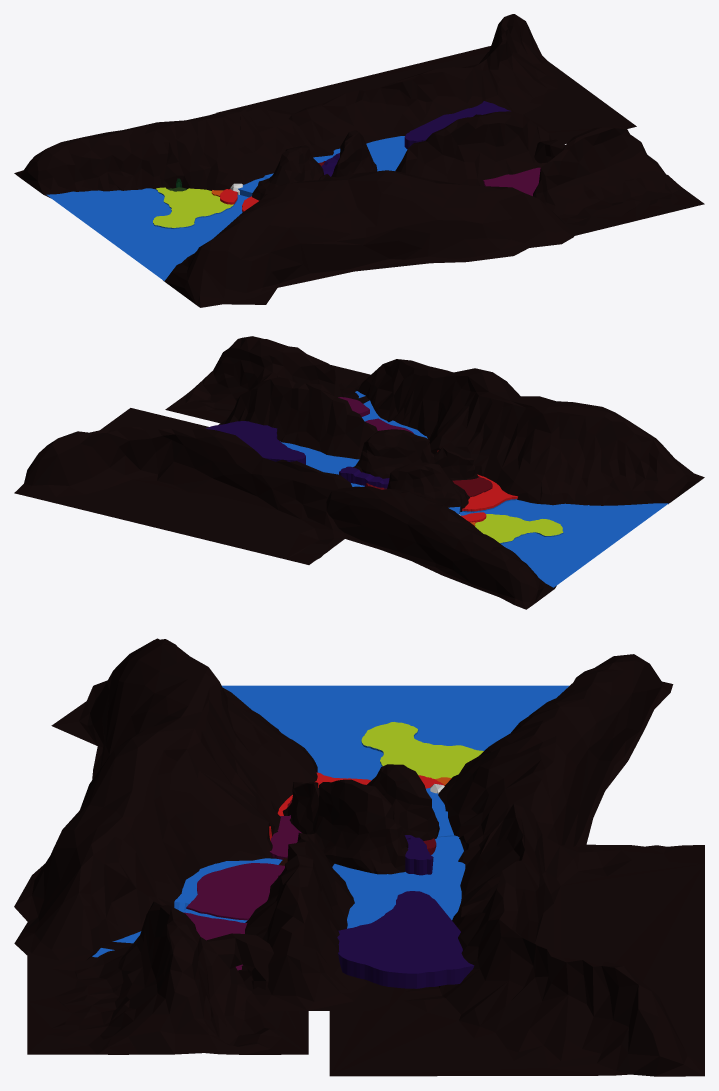
File: test_terrain_07.obj
The picture shows the model from 3 angles, top to bottom: view 1: azimuth 30°, elevation 25°; view 2: azimuth 150°, elevation 25°; view 3: azimuth 270°, elevation 25°; orthographic projection. The views are drawn at different scales.
Visible parts, largest first — view 1: Fjord3_Grid.017, Fjord1B_Grid.033, Fjord1_Grid.010, Grid_Grid.035, Lake_Grid.014, Fjord6_Grid.034, Island_01_A_Grid.004, Fjord2_Grid.011, Fjord4_Grid.018, Island_05_Grid.032, Lake_02_Grid.005, Island_04_B_Grid.031; view 2: Fjord1B_Grid.033, Fjord3_Grid.017, Fjord1_Grid.010, Lake_Grid.014, Grid_Grid.035, Fjord6_Grid.034, Fjord4_Grid.018, Fjord2_Grid.011, Island_05_Grid.032, Island_01_A_Grid.004, WindingSlope_Grid, Lake_02_Grid.005 (+1 smaller); view 3: Fjord1B_Grid.033, Fjord3_Grid.017, Grid_Grid.035, Fjord1_Grid.010, Lake_Grid.014, Fjord6_Grid.034, Island_05_Grid.032, Fjord4_Grid.018, Lake_02_Grid.005, Island_04_A_Grid.025, Island_01_A_Grid.004, Fjord2_Grid.011 (+5 smaller).
Boxes of the visible parts, bbox=[...] form: Fjord3_Grid.017: bbox=[163, 170, 574, 307]; Fjord1B_Grid.033: bbox=[216, 14, 636, 156]; Fjord1_Grid.010: bbox=[14, 107, 316, 198]; Grid_Grid.035: bbox=[533, 124, 704, 237]; Lake_Grid.014: bbox=[46, 188, 248, 280]; Fjord6_Grid.034: bbox=[395, 111, 551, 185]; Island_01_A_Grid.004: bbox=[153, 187, 233, 227]; Fjord2_Grid.011: bbox=[252, 145, 323, 200]; Fjord4_Grid.018: bbox=[319, 130, 377, 179]; Island_05_Grid.032: bbox=[404, 101, 510, 149]; Lake_02_Grid.005: bbox=[333, 136, 407, 171]; Island_04_B_Grid.031: bbox=[483, 167, 540, 196]; Fjord1B_Grid.033: bbox=[14, 408, 352, 564]; Fjord3_Grid.017: bbox=[354, 359, 704, 505]; Fjord1_Grid.010: bbox=[326, 486, 556, 609]; Lake_Grid.014: bbox=[460, 499, 668, 587]; Grid_Grid.035: bbox=[165, 336, 370, 423]; Fjord6_Grid.034: bbox=[218, 377, 377, 459]; Fjord4_Grid.018: bbox=[353, 429, 479, 480]; Fjord2_Grid.011: bbox=[387, 462, 469, 511]; Island_05_Grid.032: bbox=[205, 421, 305, 464]; Island_01_A_Grid.004: bbox=[475, 514, 563, 542]; WindingSlope_Grid: bbox=[339, 466, 492, 496]; Lake_02_Grid.005: bbox=[280, 441, 364, 486]; Fjord1B_Grid.033: bbox=[329, 799, 704, 1076]; Fjord3_Grid.017: bbox=[14, 638, 317, 960]; Grid_Grid.035: bbox=[27, 901, 308, 1054]; Fjord1_Grid.010: bbox=[438, 654, 673, 850]; Lake_Grid.014: bbox=[222, 685, 569, 780]; Fjord6_Grid.034: bbox=[238, 832, 424, 1010]; Island_05_Grid.032: bbox=[337, 891, 474, 988]; Fjord4_Grid.018: bbox=[282, 779, 408, 874]; Lake_02_Grid.005: bbox=[332, 857, 465, 928]; Island_04_A_Grid.025: bbox=[186, 863, 284, 920]; Island_01_A_Grid.004: bbox=[361, 722, 483, 778]; Fjord2_Grid.011: bbox=[367, 764, 439, 840].
Size of the model in its own units: 996 by 156 by 737.
